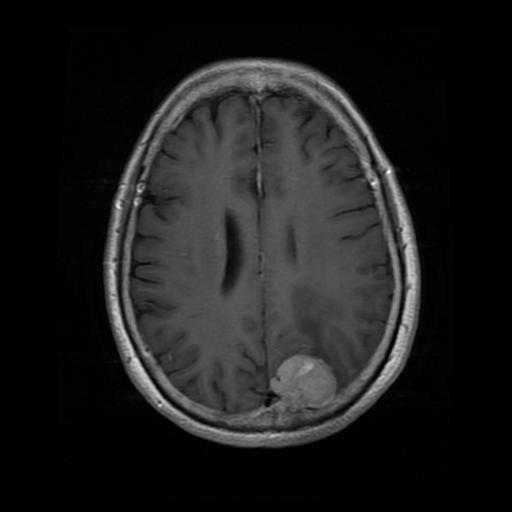Tumour-Meningioma: (250, 348, 349, 422)
